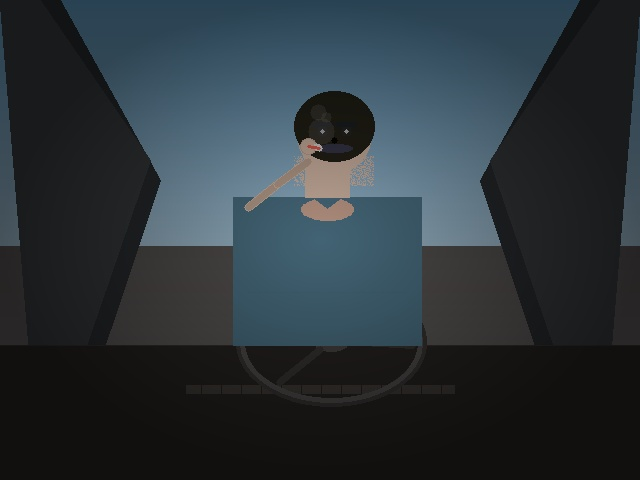smoking: (298, 131, 326, 161)
